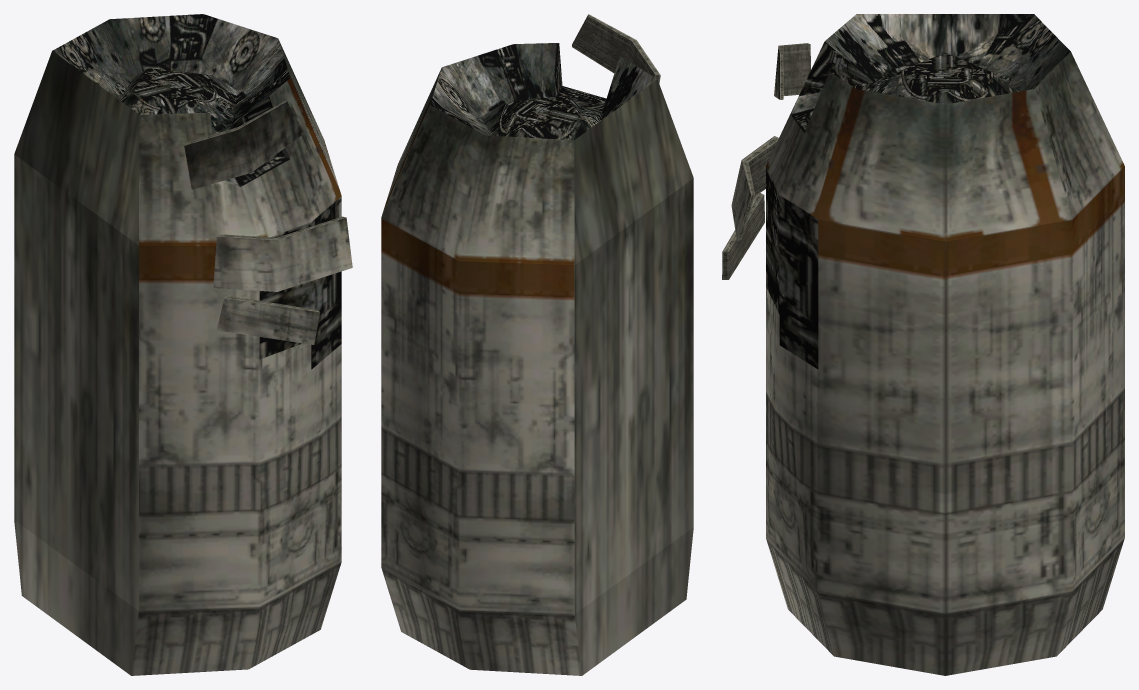
The model's file is thm_tato_lucky_despot_debris_lg_engine_s01_l2.fbx.
The picture shows the model from 3 angles, left to right: view 1: azimuth 30°, elevation 25°; view 2: azimuth 150°, elevation 25°; view 3: azimuth 270°, elevation 25°; orthographic projection. The views are drawn at different scales.
Visible parts, largest first — view 1: mesh_node; view 2: mesh_node; view 3: mesh_node.
Boxes of the visible parts, box(x1,y1,x2,y2) form: mesh_node: box(14, 14, 352, 675); mesh_node: box(381, 14, 693, 675); mesh_node: box(722, 14, 1124, 675).
Size of the model in its own units: 18.42 by 40 by 25.51.
